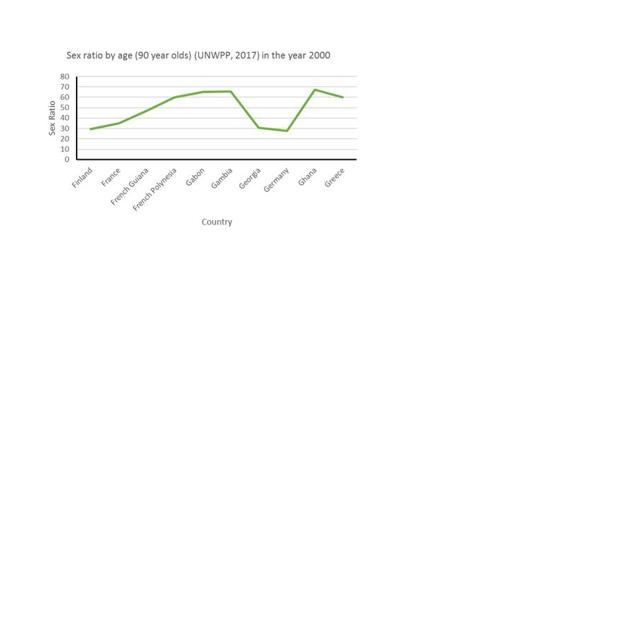Graph: (36, 45, 362, 230)
